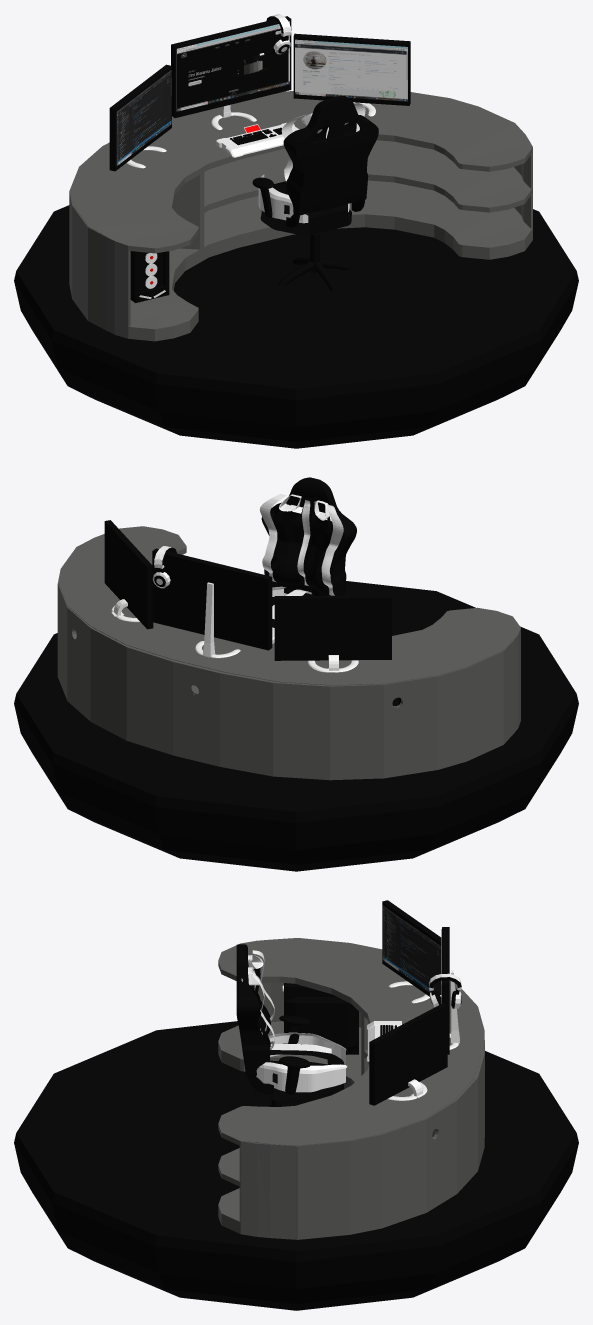
The model's file is Sketchfab_Scene.gltf.
3 views of the same model, one above another, from view 1: azimuth 30°, elevation 25°; view 2: azimuth 150°, elevation 25°; view 3: azimuth 270°, elevation 25° (orthographic).
Visible parts, largest first — view 1: Floor-material, Desk_Wood1-material, Mat007-material, Black-material, Middle_Scn-material, Mouse1-material (×4), Left_Scn-material, Right_Scn-material, Green-material, Gray-material; view 2: Desk_Wood1-material, Mat007-material, Floor-material, Mouse1-material (×3), Black-material, Green-material, Gray-material; view 3: Floor-material, Desk_Wood1-material, Mat007-material, Mouse1-material (×4), Black-material, Green-material, Right_Scn-material.
Boxes of the visible parts, left/top/right/bottom form: Floor-material: left=16, top=205, right=576, bottom=389; Desk_Wood1-material: left=69, top=91, right=532, bottom=341; Mat007-material: left=14, top=271, right=578, bottom=448; Black-material: left=252, top=96, right=378, bottom=291; Middle_Scn-material: left=177, top=21, right=289, bottom=111; Mouse1-material (×4): left=109, top=16, right=410, bottom=302; Left_Scn-material: left=295, top=39, right=407, bottom=101; Right_Scn-material: left=116, top=70, right=171, bottom=165; Green-material: left=258, top=102, right=365, bottom=223; Gray-material: left=216, top=122, right=299, bottom=157; Desk_Wood1-material: left=57, top=526, right=520, bottom=780; Mat007-material: left=14, top=694, right=578, bottom=871; Floor-material: left=16, top=581, right=576, bottom=811; Mouse1-material (×3): left=104, top=520, right=391, bottom=660; Black-material: left=261, top=477, right=356, bottom=627; Green-material: left=259, top=494, right=343, bottom=619; Gray-material: left=195, top=582, right=240, bottom=658; Floor-material: left=16, top=1021, right=576, bottom=1251; Desk_Wood1-material: left=218, top=938, right=484, bottom=1239; Mat007-material: left=14, top=1133, right=578, bottom=1310; Mouse1-material (×4): left=284, top=900, right=449, bottom=1105; Black-material: left=236, top=944, right=343, bottom=1106; Green-material: left=241, top=950, right=347, bottom=1092; Right_Scn-material: left=382, top=905, right=441, bottom=997.
Bounding box in the file's own units: 31.24 × 16.49 × 31.24.
Materials: 15 (3 with a texture image).
